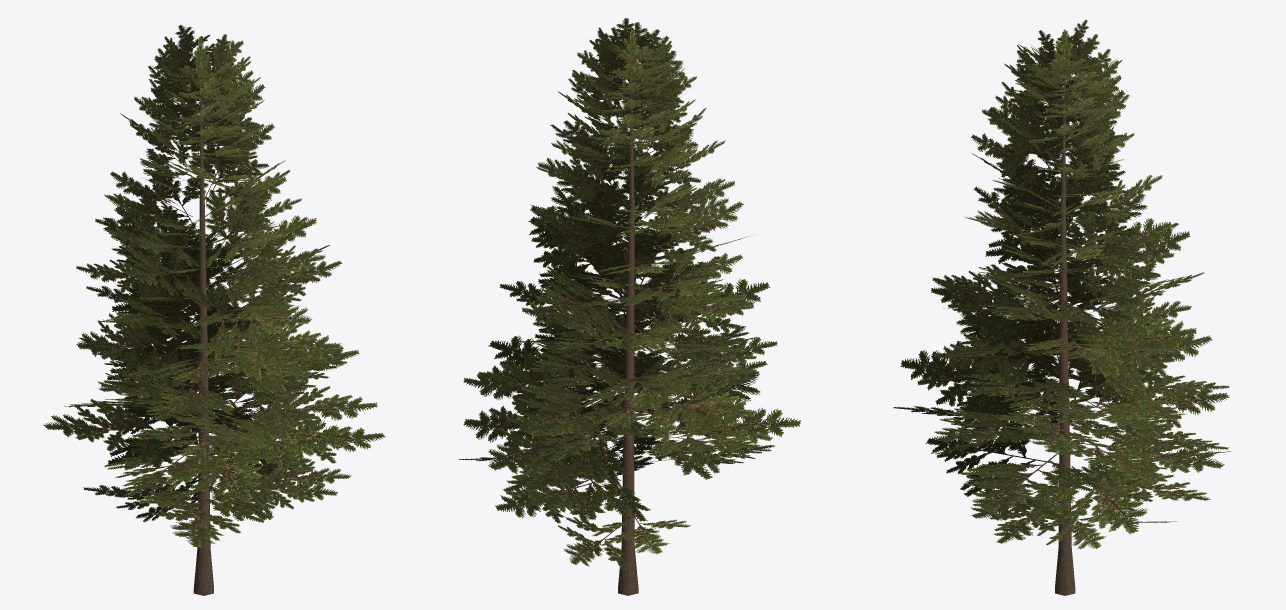
Rendered from fir_small_b_lod3.gltf.
3 views of the same model, side by side, from view 1: azimuth 30°, elevation 25°; view 2: azimuth 150°, elevation 25°; view 3: azimuth 270°, elevation 25° (orthographic).
Visible parts, largest first — view 1: fir_small_b_LOD3; view 2: fir_small_b_LOD3; view 3: fir_small_b_LOD3.
Part boxes in pixels (x1,y1,x2,y2): fir_small_b_LOD3: (43,25,385,595); fir_small_b_LOD3: (458,18,800,595); fir_small_b_LOD3: (893,19,1231,595).
Size of the model in its own units: 9.55 by 14.4 by 9.47.
2 materials, 2 textured.
